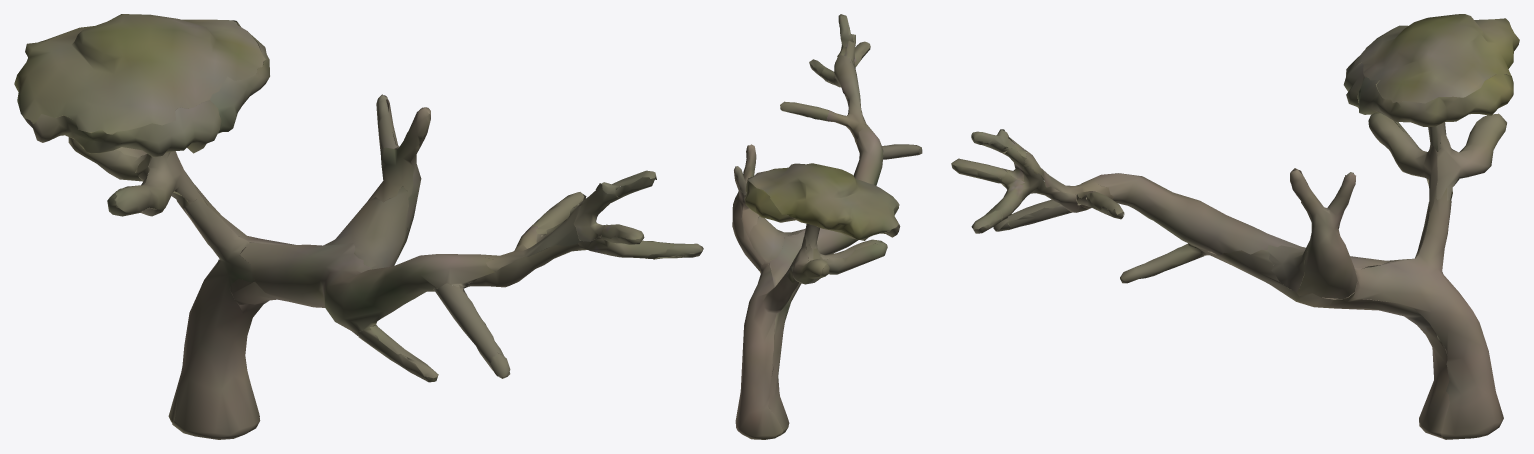
The model's file is boulder_01_lod1.glb.
The picture shows the model from 3 angles, left to right: view 1: azimuth 30°, elevation 25°; view 2: azimuth 150°, elevation 25°; view 3: azimuth 270°, elevation 25°; orthographic projection. The views are drawn at different scales.
Visible parts, largest first — view 1: candidate_013_lod1; view 2: candidate_013_lod1; view 3: candidate_013_lod1.
Part boxes in pixels (x1,y1,x2,y2): candidate_013_lod1: [14, 14, 703, 439]; candidate_013_lod1: [732, 14, 922, 439]; candidate_013_lod1: [951, 14, 1519, 439].
Bounding box in the file's own units: 0.1251 × 0.1248 × 0.1759.
1 material, 1 textured.
